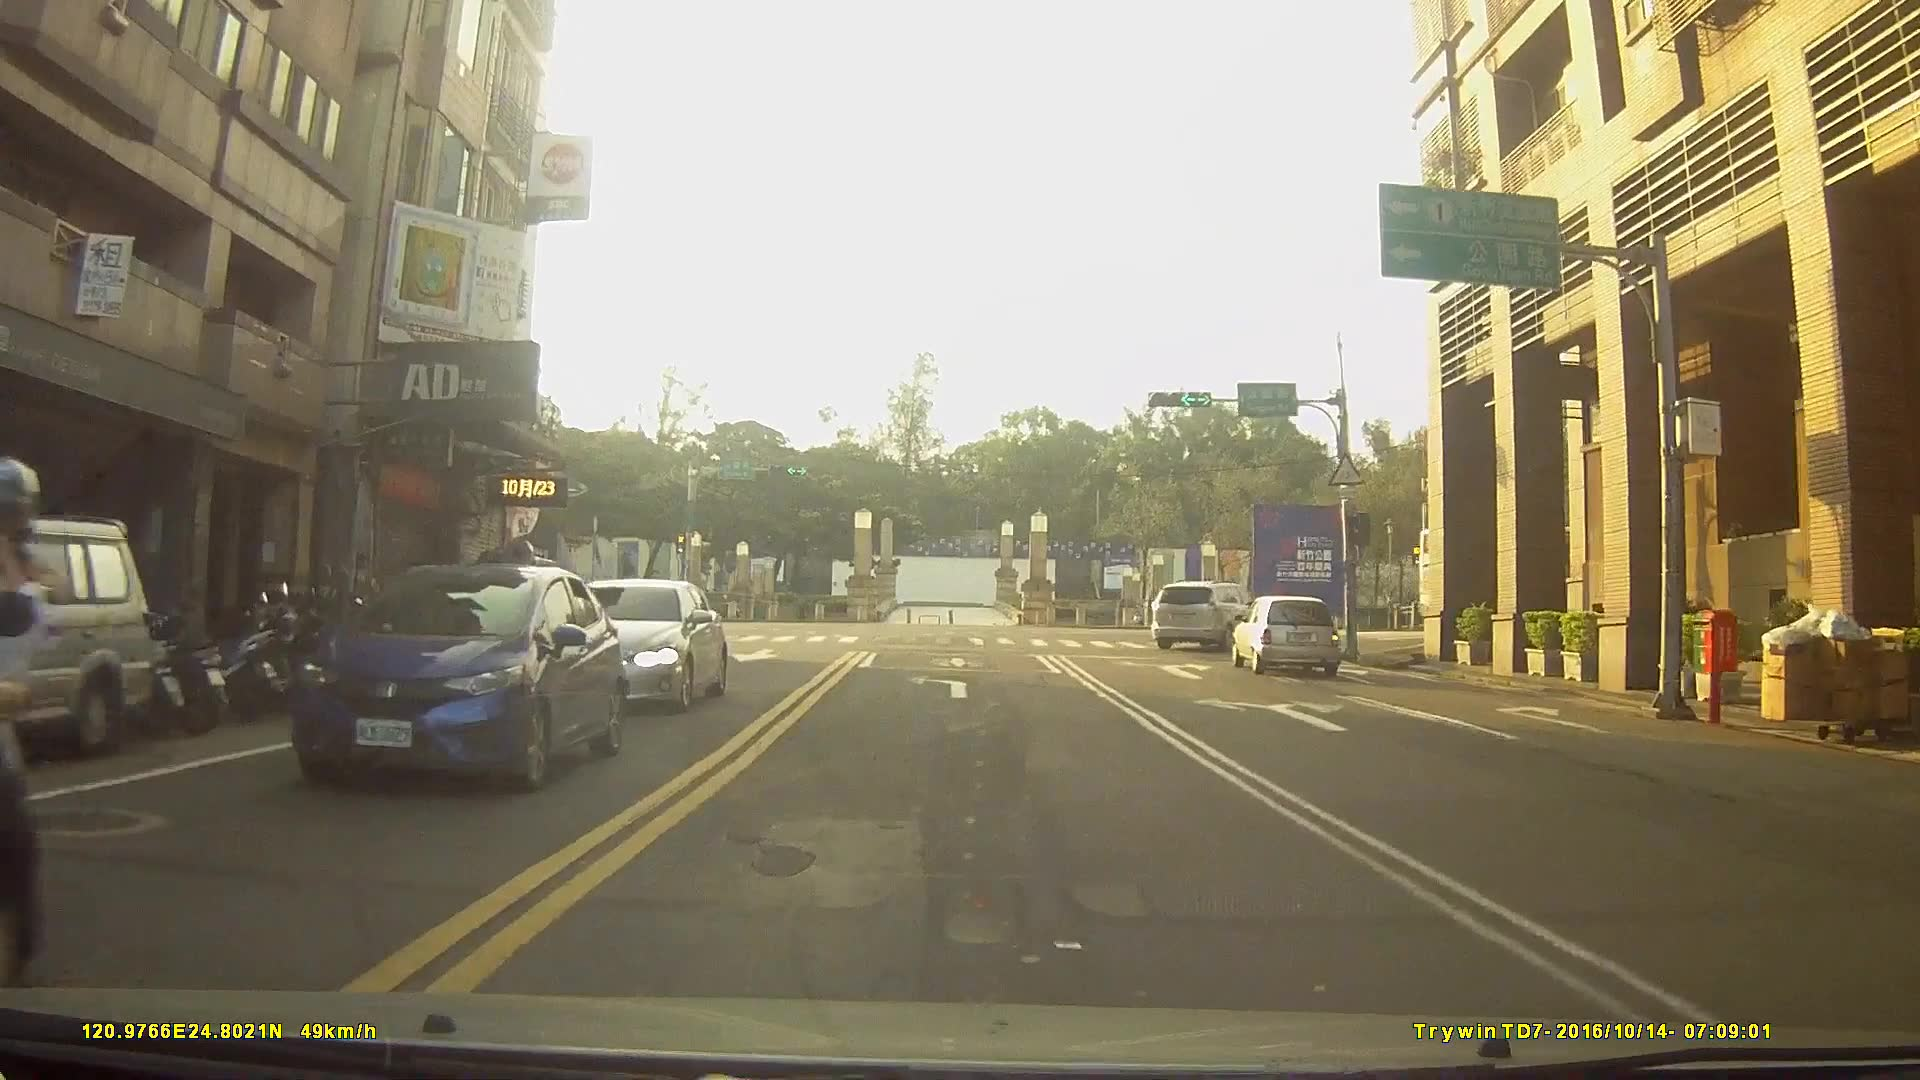rider: (1, 434, 80, 1080)
vehicle: (289, 561, 625, 795), (0, 513, 153, 760), (537, 577, 724, 713), (1229, 591, 1338, 673), (1150, 579, 1262, 648)
